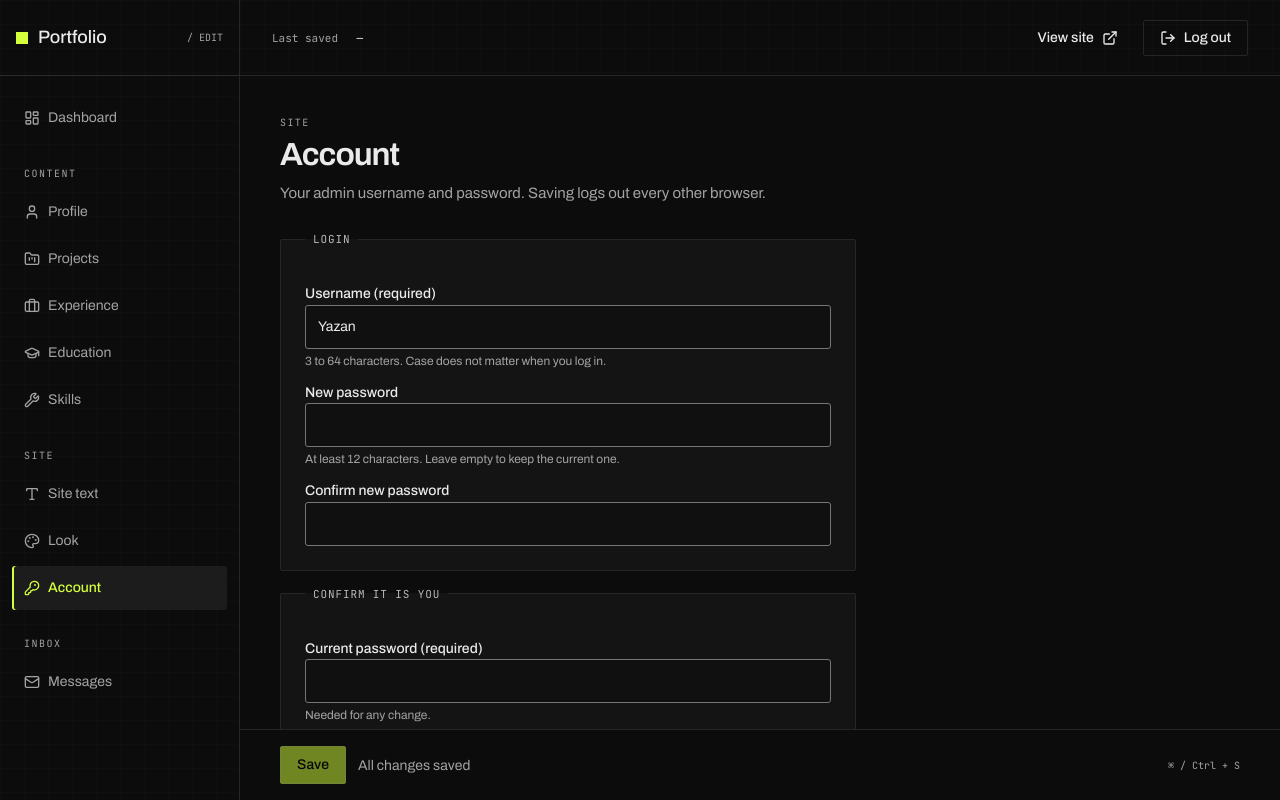
Scenario: AdminAccount › unsaved edits are guarded
Replace the text in the field labelled "Username (required)" with "Admin2". click: (568, 327)
box: top-left (305, 305), bottom-right (831, 349)
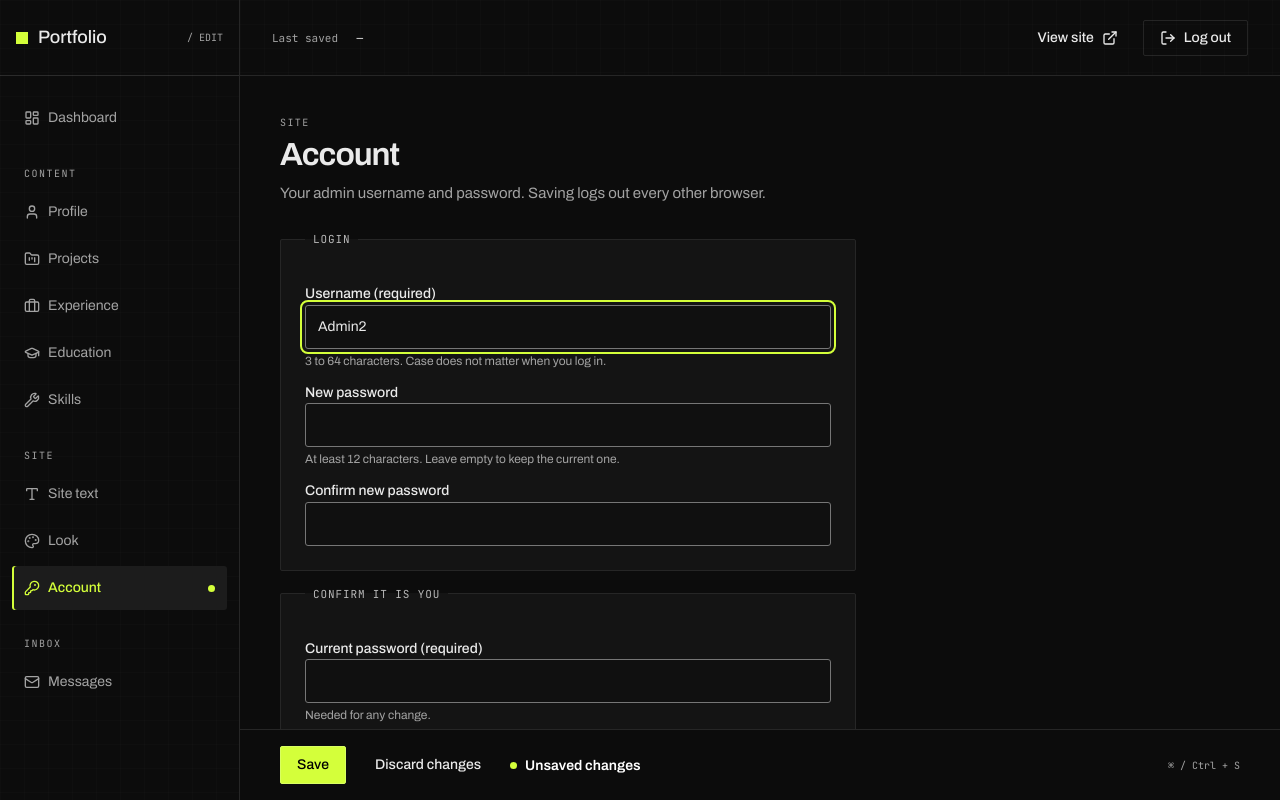
Click the link "Dashboard". click: (70, 118)
box: top-left (24, 110), bottom-right (117, 126)
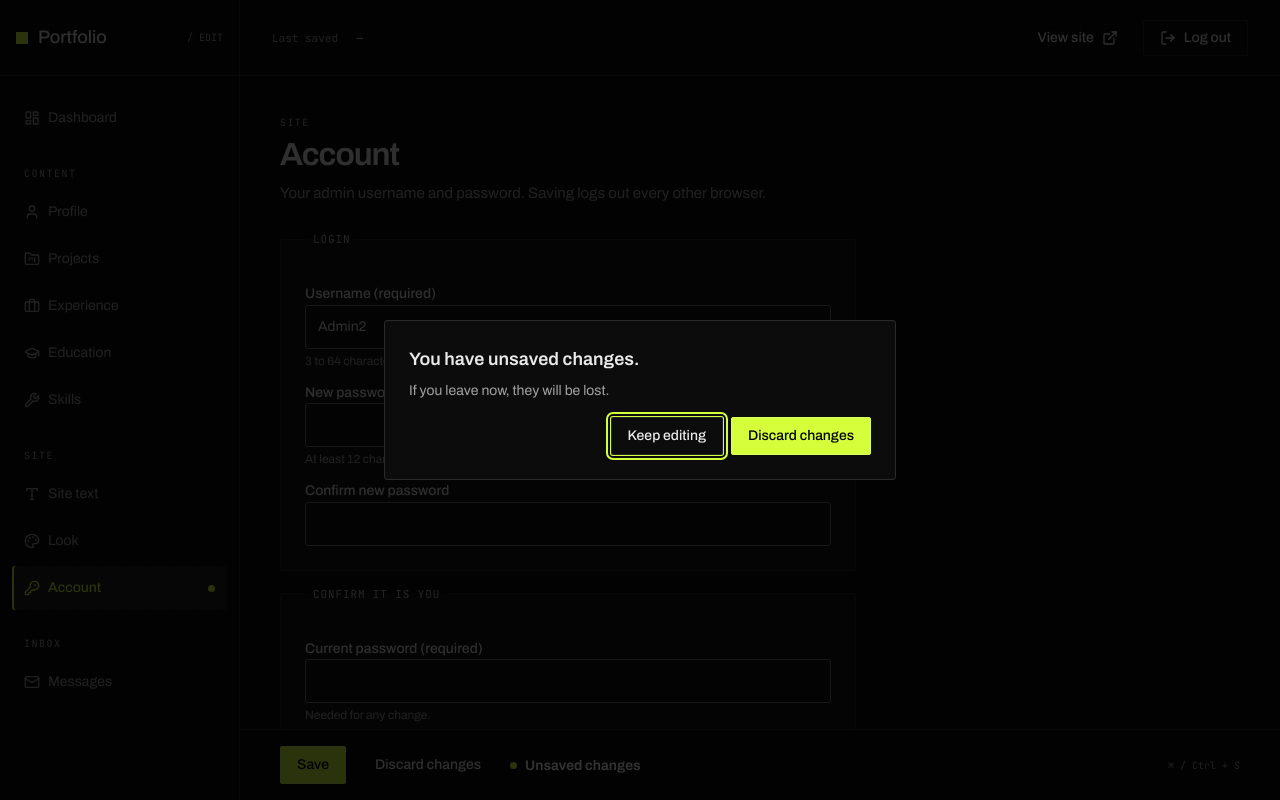
Result: the heading "You have unsaved changes." is shown at top-left (409, 349), bottom-right (639, 369)
